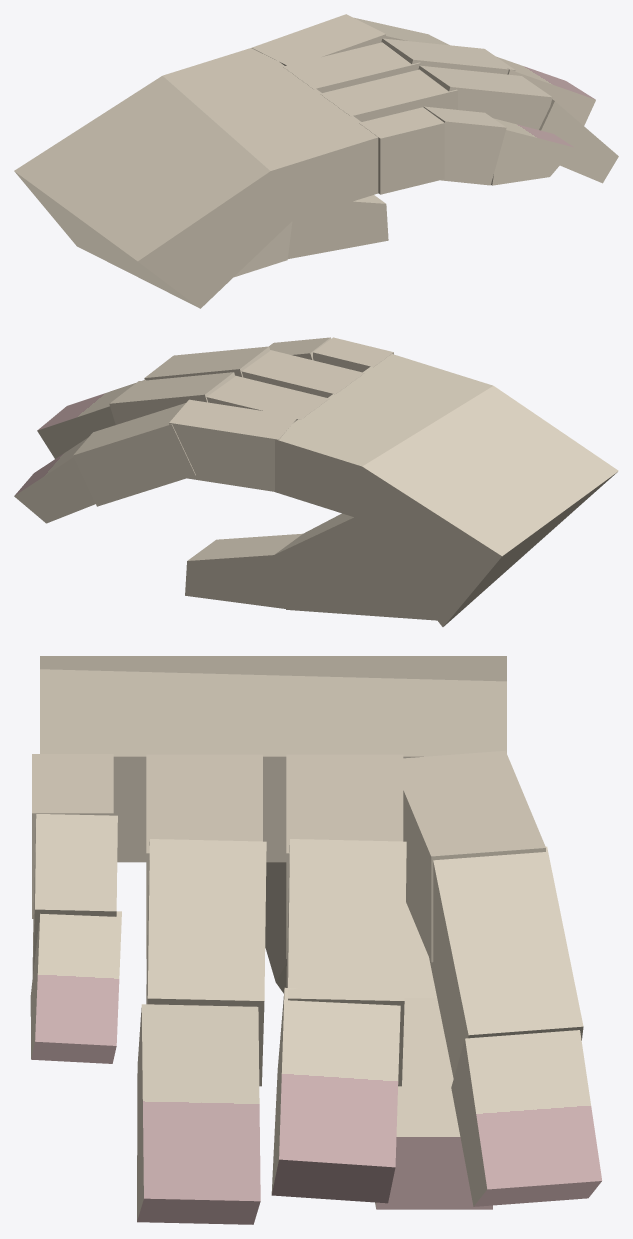
File: hand.fbx
3 views of the same model, one above another, from view 1: azimuth 30°, elevation 25°; view 2: azimuth 150°, elevation 25°; view 3: azimuth 270°, elevation 25° (orthographic). The views are drawn at different scales.
Parts seen in each view (by area): view 1: palm; view 2: palm; view 3: palm.
Part boxes in pixels (x1,y1,x2,y2): palm: [14, 14, 618, 308]; palm: [14, 337, 618, 626]; palm: [30, 656, 602, 1224].
Bounding box in the file's own units: 60.96 × 21.99 × 30.6.
Materials: 1 (1 with a texture image).
